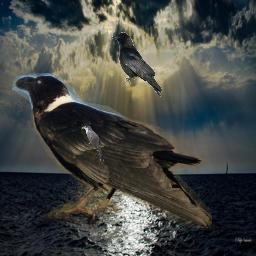Crow: (12, 70, 212, 228), (110, 32, 162, 97)
Cuckoo: (81, 125, 104, 162)
